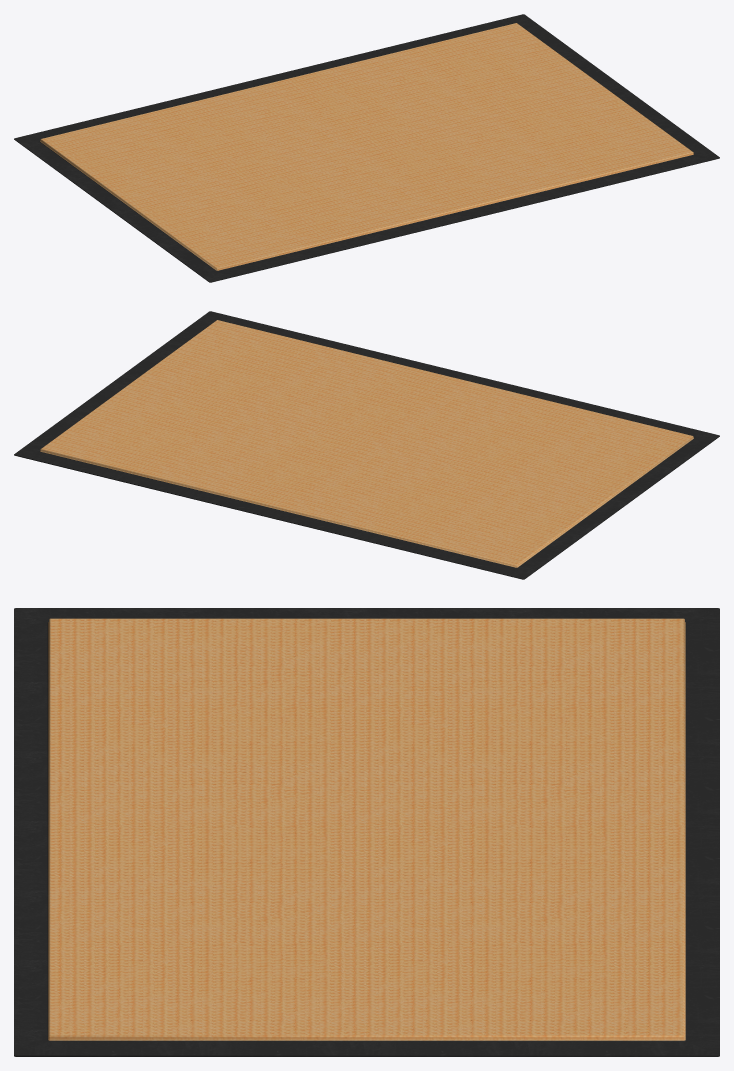
The model's file is Doormate.obj.
The picture shows the model from 3 angles, top to bottom: view 1: azimuth 30°, elevation 25°; view 2: azimuth 150°, elevation 25°; view 3: azimuth 270°, elevation 25°; orthographic projection. The views are drawn at different scales.
Parts seen in each view (by area): view 1: Doormate; view 2: Doormate; view 3: Doormate.
Boxes of the visible parts, box(x1,y1,x2,y2) form: Doormate: box(14, 14, 719, 282); Doormate: box(14, 311, 719, 579); Doormate: box(14, 608, 719, 1056).
Bounding box in the file's own units: 23.6 × 0.1478 × 15.73.
